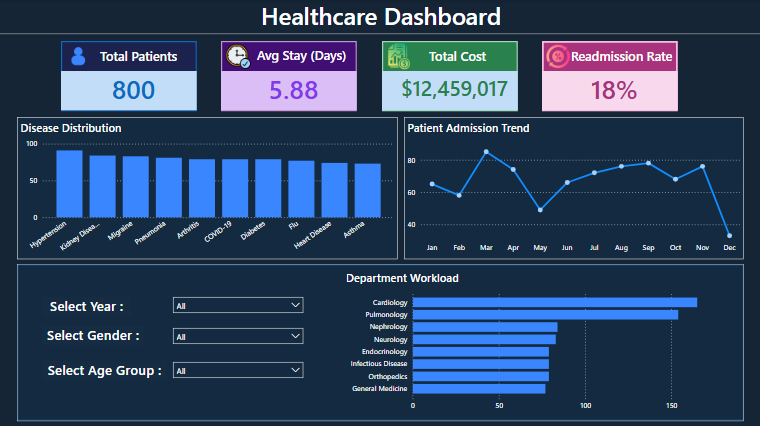

The dashboard page shown, as its layout file describes it:
{"tool":"powerbi","page":{"name":"Page 1","canvas":[1280,720],"ordinal":0},"visuals":[{"type":"textbox","title":"Healthcare Dashboard","box":[0,0,1280,63.8],"z":0},{"type":"shape","title":"Total Patients","box":[102.5,70.6,228.5,117.6],"z":0,"group":"g1"},{"type":"shape","title":"Total Patients","box":[371.8,70.6,228.5,117.6],"z":0,"group":"g2"},{"type":"shape","title":"Total Patients","box":[641.1,70.6,228.5,117.6],"z":0,"group":"g3"},{"type":"shape","title":"Total Patients","box":[910.4,70.6,228.5,117.6],"z":0,"group":"g4"},{"type":"group","id":"g1","title":"Group 1","box":[102.5,70.6,228.5,117.6],"z":1000},{"type":"textbox","title":"Avg Stay (Days)","box":[420.5,79,173,33.6],"z":1000,"group":"g2"},{"type":"textbox","title":"Total Patients","box":[146.2,80.7,173,33.6],"z":1000,"group":"g1"},{"type":"textbox","title":"Total Cost","box":[681.4,80.7,173,33.6],"z":1000,"group":"g3"},{"type":"textbox","title":"Readmission Rate","box":[950.7,80.7,186.5,35.3],"z":1000,"group":"g4"},{"type":"group","id":"g2","title":"Group 1","box":[371.8,70.6,228.5,117.6],"z":2000},{"type":"card","fields":{"Values":["healthcare_patient_analytics_dataset.Total patients"]},"box":[102.5,121,228.5,65.5],"z":2000,"group":"g1"},{"type":"card","fields":{"Values":["healthcare_patient_analytics_dataset.Avg_Stays"]},"box":[371.8,121,228.5,65.5],"z":2000,"group":"g2"},{"type":"card","fields":{"Values":["healthcare_patient_analytics_dataset.total_cost"]},"box":[641.1,121,228.5,65.5],"z":2000,"group":"g3"},{"type":"card","fields":{"Values":["healthcare_patient_analytics_dataset.Readmiited rate"]},"box":[910.4,121,228.5,65.5],"z":2000,"group":"g4"},{"type":"group","id":"g3","title":"Group 1","box":[641.1,70.6,228.5,117.6],"z":3000},{"type":"image","box":[105.9,74,50.4,45.4],"z":3000,"group":"g1"},{"type":"image","box":[375.2,74,50.4,45.4],"z":3000,"group":"g2"},{"type":"image","box":[644.5,74,50.4,45.4],"z":3000,"group":"g3"},{"type":"image","box":[912.1,74,50.4,45.4],"z":3000,"group":"g4"},{"type":"group","id":"g4","title":"Group 1","box":[910.4,70.6,228.5,117.6],"z":4000},{"type":"clusteredColumnChart","title":"Disease Distribution","fields":{"Category":["healthcare_patient_analytics_dataset.Disease"],"Y":["CountNonNull(healthcare_patient_analytics_dataset.Patient_ID)"]},"box":[28.6,198.2,640,238.5],"z":5000},{"type":"shape","box":[28.6,445.1,1221.2,263.7],"z":6000,"group":"g5"},{"type":"lineChart","title":"Patient Admission Trend","fields":{"Category":["healthcare_patient_analytics_dataset.month_short"],"Y":["CountNonNull(healthcare_patient_analytics_dataset.Patient_ID)"]},"box":[678.6,198.2,571.1,238.5],"z":7000},{"type":"clusteredBarChart","title":"Department Workload","fields":{"Category":["healthcare_patient_analytics_dataset.Department"],"Y":["CountNonNull(healthcare_patient_analytics_dataset.Patient_ID)"]},"box":[577,449.9,653.4,250.3],"z":8000,"group":"g5"},{"type":"textbox","title":"Select Year :","box":[70.6,500.2,149.5,31.9],"z":9000,"group":"g5"},{"type":"textbox","title":"Select Gender :","box":[70.6,548.9,171.3,31.9],"z":10000,"group":"g5"},{"type":"textbox","title":"Select Age Group :","box":[70.6,607.7,210,31.9],"z":11000,"group":"g5"},{"type":"slicer","fields":{"Values":["healthcare_patient_analytics_dataset.Admission_Date.Variation.Date Hierarchy.Year"]},"box":[280.6,490.1,238.5,48.7],"z":12000,"group":"g5"},{"type":"slicer","fields":{"Values":["healthcare_patient_analytics_dataset.Gender"]},"box":[280.6,542.2,238.5,40.3],"z":13000,"group":"g5"},{"type":"slicer","fields":{"Values":["healthcare_patient_analytics_dataset.Age_Group"]},"box":[280.6,599.3,238.5,40.3],"z":14000,"group":"g5"},{"type":"group","id":"g5","title":"Group 2","box":[28.6,445.1,1221.2,263.7],"z":14001}]}

Visuals, with their boxes in screenshot pixels (x1, y1, x2, y2), scaled from the page's 1280x720 canvas onto the 760x426 screenshot:
"Healthcare Dashboard" textbox: region(0, 0, 759, 38)
"Total Patients" shape: region(61, 42, 197, 111)
"Total Patients" shape: region(221, 42, 356, 111)
"Total Patients" shape: region(381, 42, 516, 111)
"Total Patients" shape: region(541, 42, 676, 111)
"Group 1" group: region(61, 42, 197, 111)
"Avg Stay (Days)" textbox: region(250, 47, 352, 67)
"Total Patients" textbox: region(87, 48, 190, 68)
"Total Cost" textbox: region(405, 48, 507, 68)
"Readmission Rate" textbox: region(564, 48, 675, 69)
"Group 1" group: region(221, 42, 356, 111)
card - healthcare_patient_analytics_dataset.Total patients: region(61, 72, 197, 110)
card - healthcare_patient_analytics_dataset.Avg_Stays: region(221, 72, 356, 110)
card - healthcare_patient_analytics_dataset.total_cost: region(381, 72, 516, 110)
card - healthcare_patient_analytics_dataset.Readmiited rate: region(541, 72, 676, 110)
"Group 1" group: region(381, 42, 516, 111)
image: region(63, 44, 93, 71)
image: region(223, 44, 253, 71)
image: region(383, 44, 413, 71)
image: region(542, 44, 571, 71)
"Group 1" group: region(541, 42, 676, 111)
"Disease Distribution" clusteredColumnChart: region(17, 117, 397, 258)
shape: region(17, 263, 742, 419)
"Patient Admission Trend" lineChart: region(403, 117, 742, 258)
"Department Workload" clusteredBarChart: region(343, 266, 731, 414)
"Select Year :" textbox: region(42, 296, 131, 315)
"Select Gender :" textbox: region(42, 325, 144, 344)
"Select Age Group :" textbox: region(42, 360, 167, 378)
slicer - healthcare_patient_analytics_dataset.Admission_Date.Variation.Date Hierarchy.Year: region(167, 290, 308, 319)
slicer - healthcare_patient_analytics_dataset.Gender: region(167, 321, 308, 345)
slicer - healthcare_patient_analytics_dataset.Age_Group: region(167, 355, 308, 378)
"Group 2" group: region(17, 263, 742, 419)
